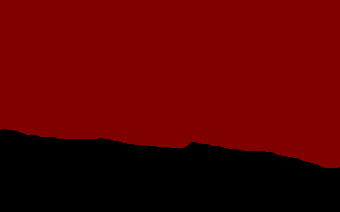Sky: (1, 1, 339, 211)
